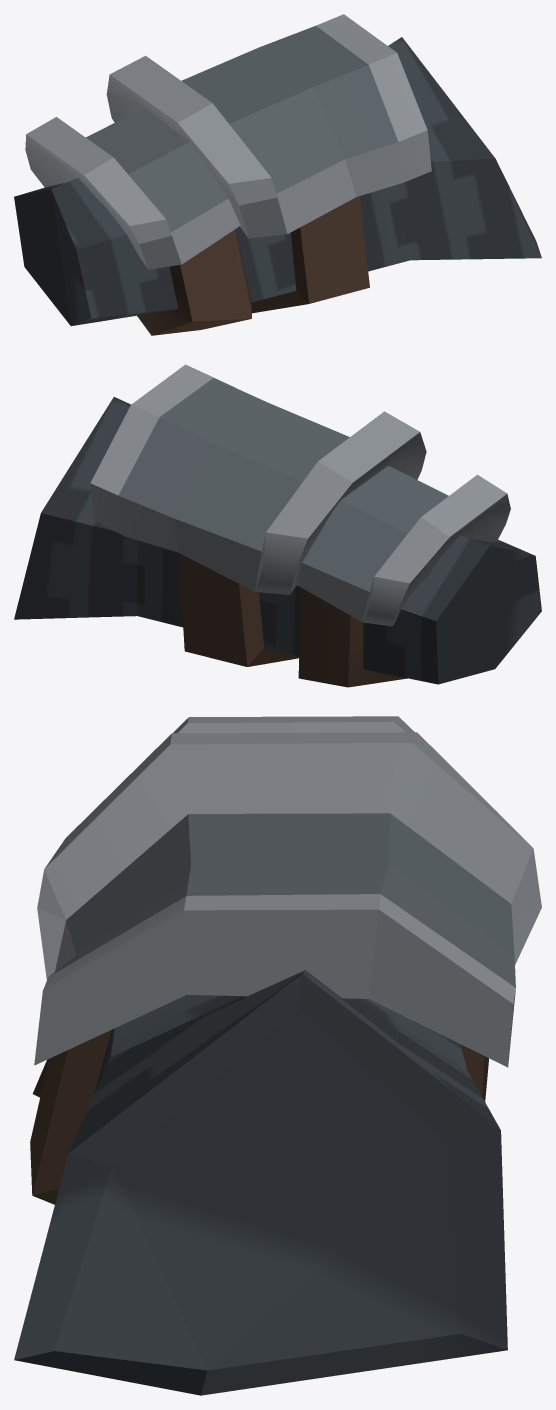
Rendered from Chr_ArmUpperRight_Male_04_Static.fbx.
3 views of the same model, one above another, from view 1: azimuth 30°, elevation 25°; view 2: azimuth 150°, elevation 25°; view 3: azimuth 270°, elevation 25° (orthographic). The views are drawn at different scales.
Visible parts, largest first — view 1: Chr_ArmUpperRight_Male_04_Static; view 2: Chr_ArmUpperRight_Male_04_Static; view 3: Chr_ArmUpperRight_Male_04_Static.
Part boxes in pixels (left/top/right/bottom): Chr_ArmUpperRight_Male_04_Static: left=14, top=14, right=541, bottom=335; Chr_ArmUpperRight_Male_04_Static: left=14, top=364, right=541, bottom=687; Chr_ArmUpperRight_Male_04_Static: left=14, top=716, right=541, bottom=1395.
Size of the model in its own units: 0.3244 by 0.1732 by 0.1856.
